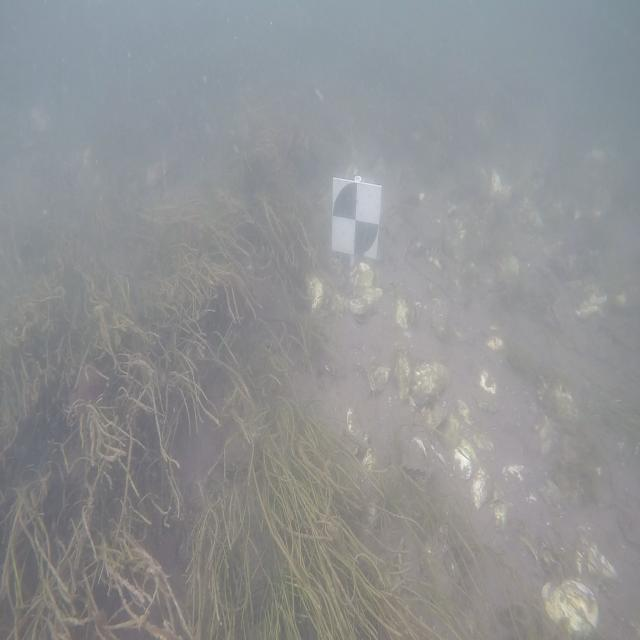Oyster- Indeterminate: (346, 409, 369, 447), (476, 371, 496, 413)
Oyster-Closed: (541, 580, 599, 636), (412, 371, 448, 429), (575, 538, 616, 580), (412, 362, 449, 404), (349, 287, 382, 323), (454, 440, 476, 479), (351, 262, 374, 297), (491, 489, 510, 531), (305, 273, 325, 312), (395, 349, 410, 400), (471, 469, 488, 509), (396, 298, 416, 329), (456, 400, 472, 427), (502, 464, 526, 482), (486, 336, 504, 351)
Oyster-Open: (399, 427, 432, 471), (368, 367, 390, 391)
